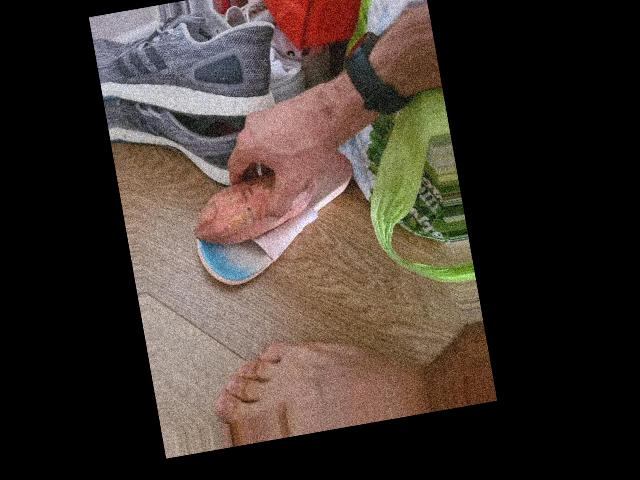sweet_potato: (184, 164, 326, 252)
